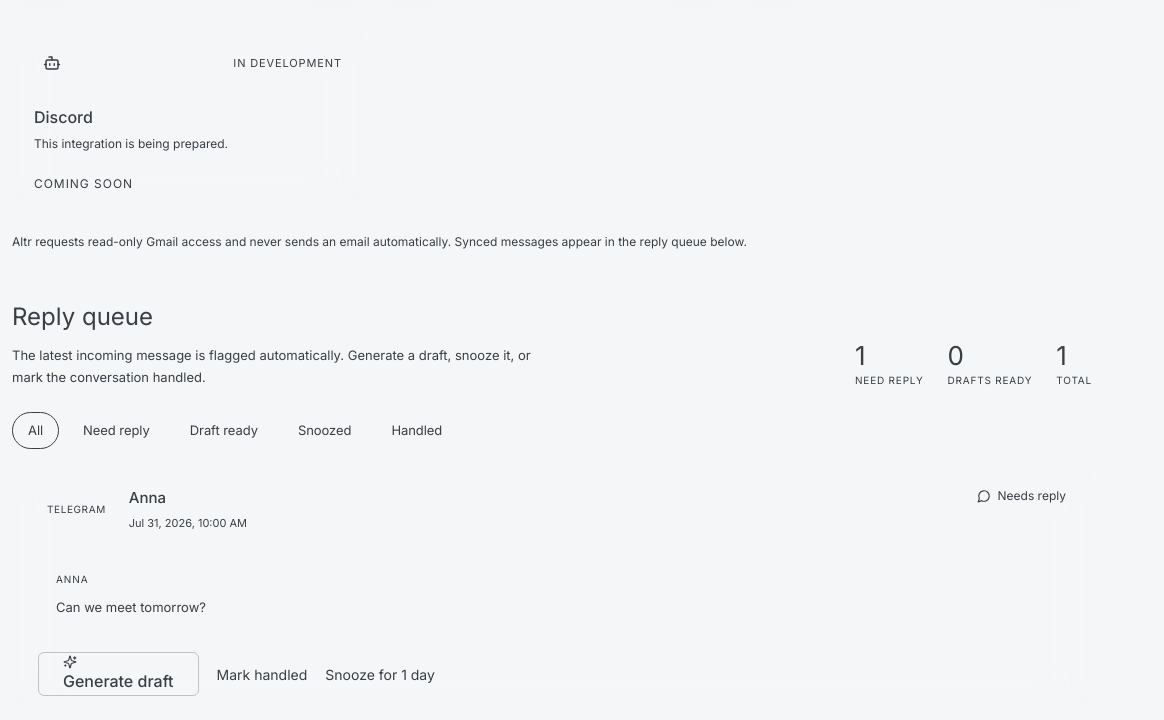
Test case: ConnectionsView › generates a Twin draft from the selected conversation and keeps it review-only
(page scrolled)
Expected: the heading "Anna" is shown, [129,488,166,507]
Click the button "Generate draft" at {"x": 118, "y": 674}, box [38,652,199,696]
(page scrolled)
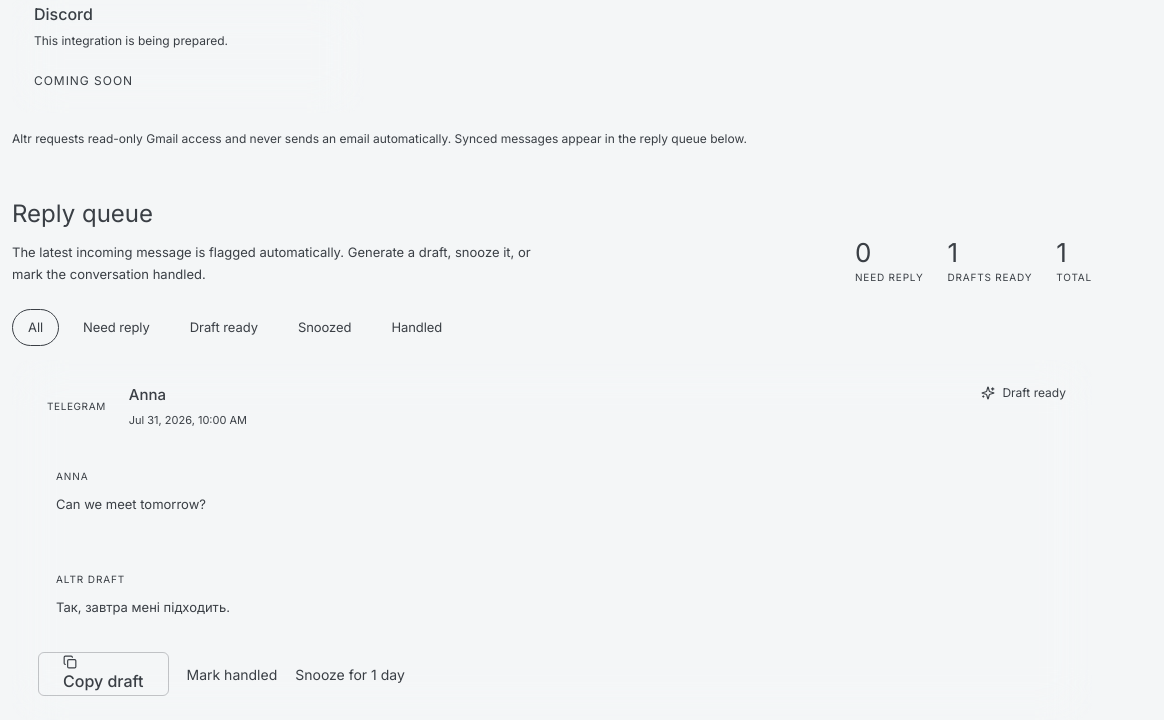
Now the text "Так, завтра мені підходить." is shown, box [56,599,230,615]
Now the button "Copy draft" is shown, box [38,652,168,696]
